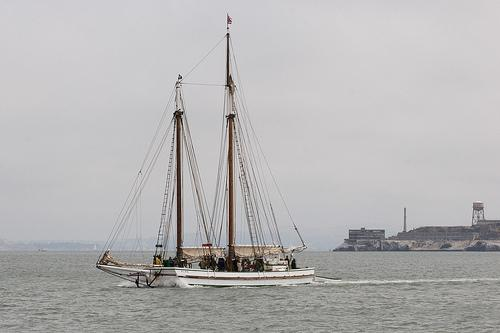Ship: (95, 9, 314, 286)
